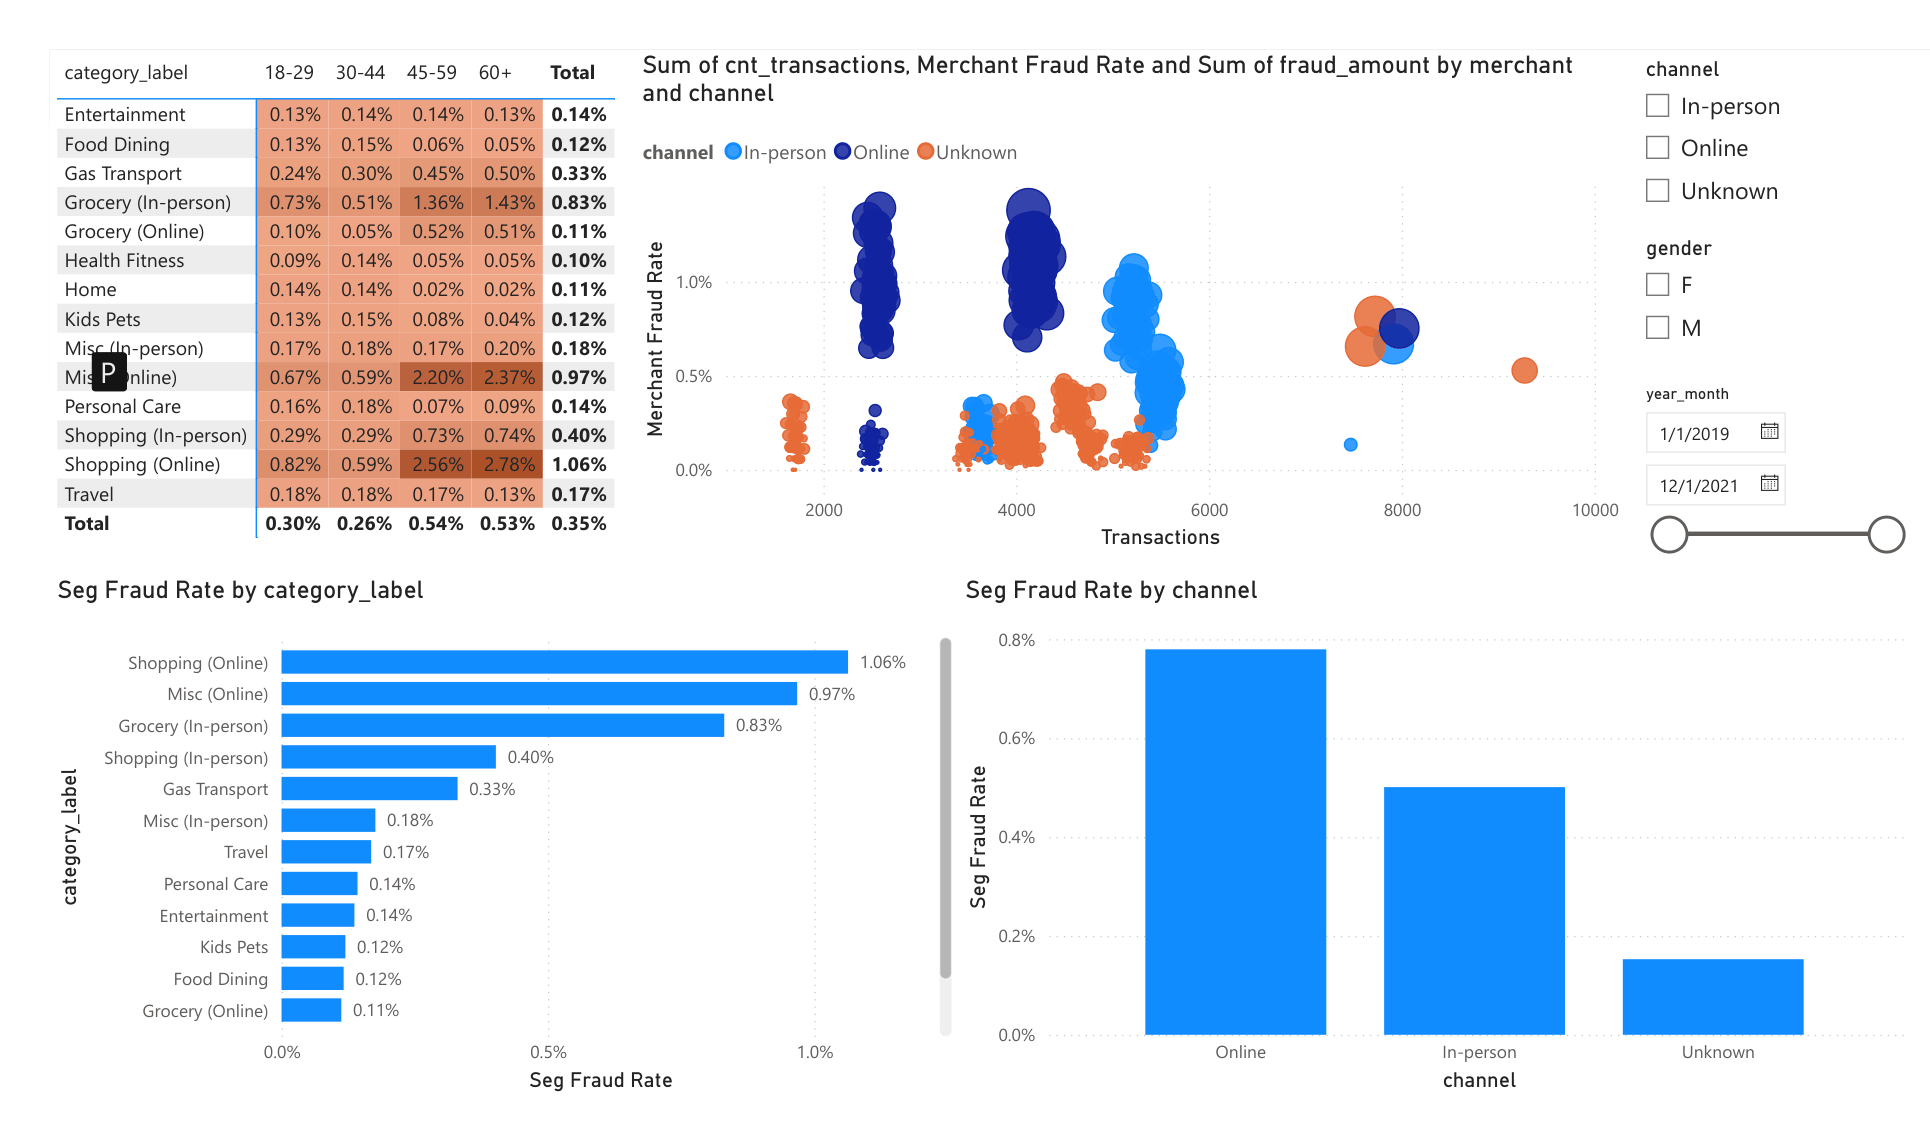

The page's visual inventory and layout, read from the dashboard file:
{"tool":"powerbi","page":{"name":"Segments","canvas":[1280,720],"ordinal":1},"visuals":[{"type":"pivotTable","fields":{"Rows":["public_core dim_category.category_label"],"Columns":["public_marts mart_segment_kpi.age_bucket"],"Values":["public_marts mart_segment_kpi.Seg Fraud Rate"]},"box":[0,0,402,346.8],"z":0},{"type":"clusteredBarChart","fields":{"Category":["public_core dim_category.category_label"],"Y":["public_marts mart_segment_kpi.Seg Fraud Rate"]},"box":[0,360.6,623.2,359.3],"z":1000},{"type":"clusteredColumnChart","fields":{"Category":["public_core dim_category.channel"],"Y":["public_marts mart_segment_kpi.Seg Fraud Rate"]},"box":[623.2,360.6,657.1,359.3],"z":2000},{"type":"scatterChart","fields":{"X":["Sum(public_marts mart_merchant_risk.cnt_transactions)"],"Y":["public_marts mart_merchant_risk.Merchant Fraud Rate"],"Series":["public_core dim_category.channel"],"Size":["Sum(public_marts mart_merchant_risk.fraud_amount)"],"Category":["public_marts mart_merchant_risk.merchant"]},"box":[402,0,679.7,346.8],"z":2001},{"type":"slicer","fields":{"Values":["public_core dim_category.channel"]},"box":[1081.7,0,198.5,123.1],"z":2002},{"type":"slicer","fields":{"Values":["public_marts mart_segment_kpi.gender"]},"box":[1081.7,123.1,198.5,101.8],"z":2003},{"type":"slicer","fields":{"Values":["public_core dim_date.year_month"]},"box":[1081.7,224.9,198.5,147],"z":2004}]}

Visuals, with their boxes on the page's 1280x720 design canvas (x1, y1, x2, y2). These are canvas units, not pixel positions in the 1930x1129 screenshot, which may show the page scaled, cropped or inside an application window:
pivotTable - public_core dim_category.category_label x public_marts mart_segment_kpi.age_bucket: bbox=[0, 0, 402, 347]
clusteredBarChart - public_core dim_category.category_label x public_marts mart_segment_kpi.Seg Fraud Rate: bbox=[0, 361, 623, 720]
clusteredColumnChart - public_core dim_category.channel x public_marts mart_segment_kpi.Seg Fraud Rate: bbox=[623, 361, 1280, 720]
scatterChart - Sum(public_marts mart_merchant_risk.cnt_transactions) x public_marts mart_merchant_risk.Merchant Fraud Rate: bbox=[402, 0, 1082, 347]
slicer - public_core dim_category.channel: bbox=[1082, 0, 1280, 123]
slicer - public_marts mart_segment_kpi.gender: bbox=[1082, 123, 1280, 225]
slicer - public_core dim_date.year_month: bbox=[1082, 225, 1280, 372]
